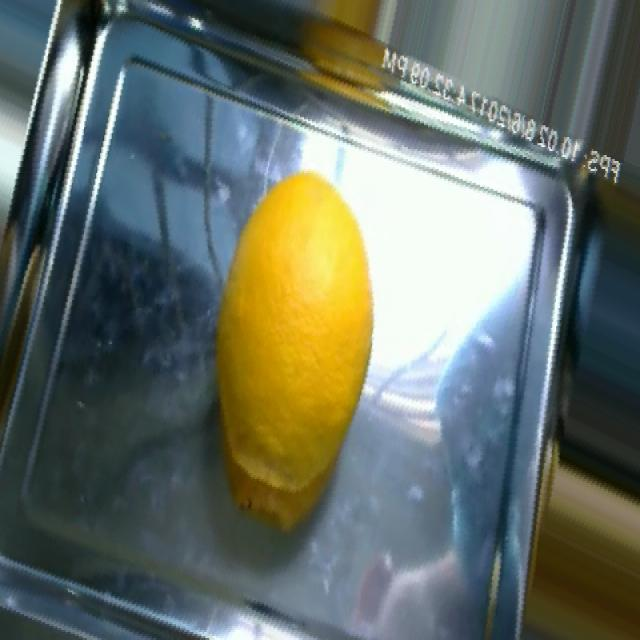Fruit: (206, 145, 386, 368)
